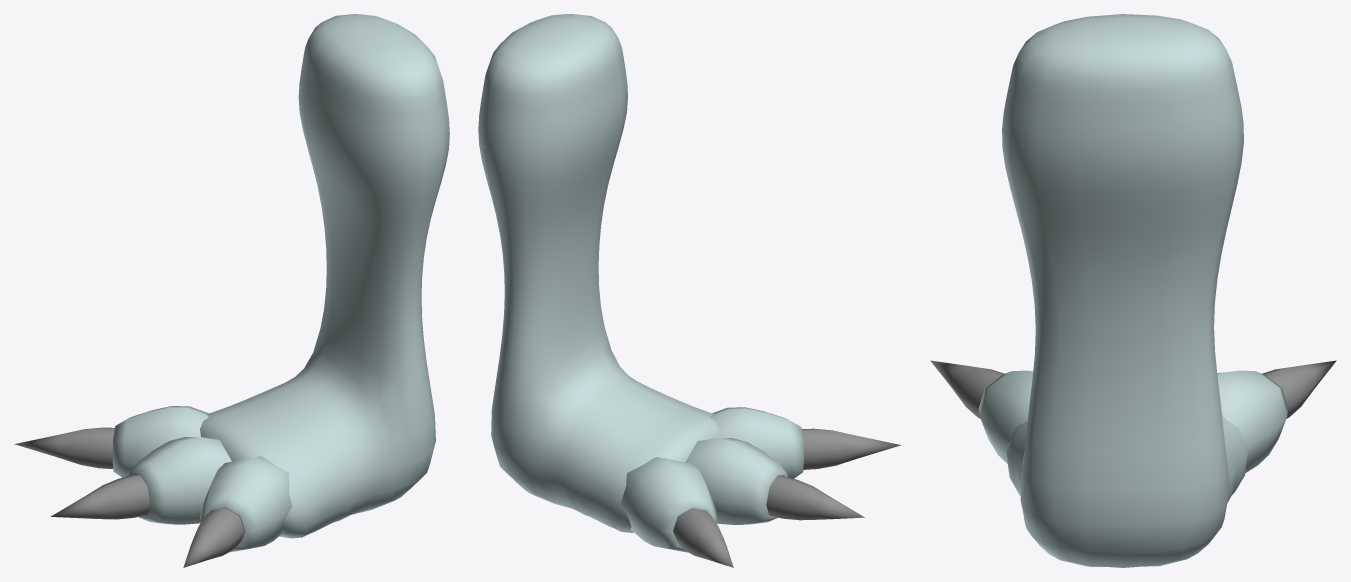
The model's file is Claws.fbx.
3 views of the same model, side by side, from view 1: azimuth 30°, elevation 25°; view 2: azimuth 150°, elevation 25°; view 3: azimuth 270°, elevation 25° (orthographic). The views are drawn at different scales.
Visible parts, largest first — view 1: Cube.067; view 2: Cube.067; view 3: Cube.067.
Part boxes in pixels (box(x1,y1,x2,y2)): Cube.067: box(14, 14, 449, 567); Cube.067: box(478, 14, 901, 567); Cube.067: box(930, 14, 1336, 567).
Size of the model in its own units: 403 by 477 by 316.
